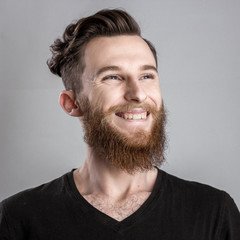young: (51, 9, 175, 181)
